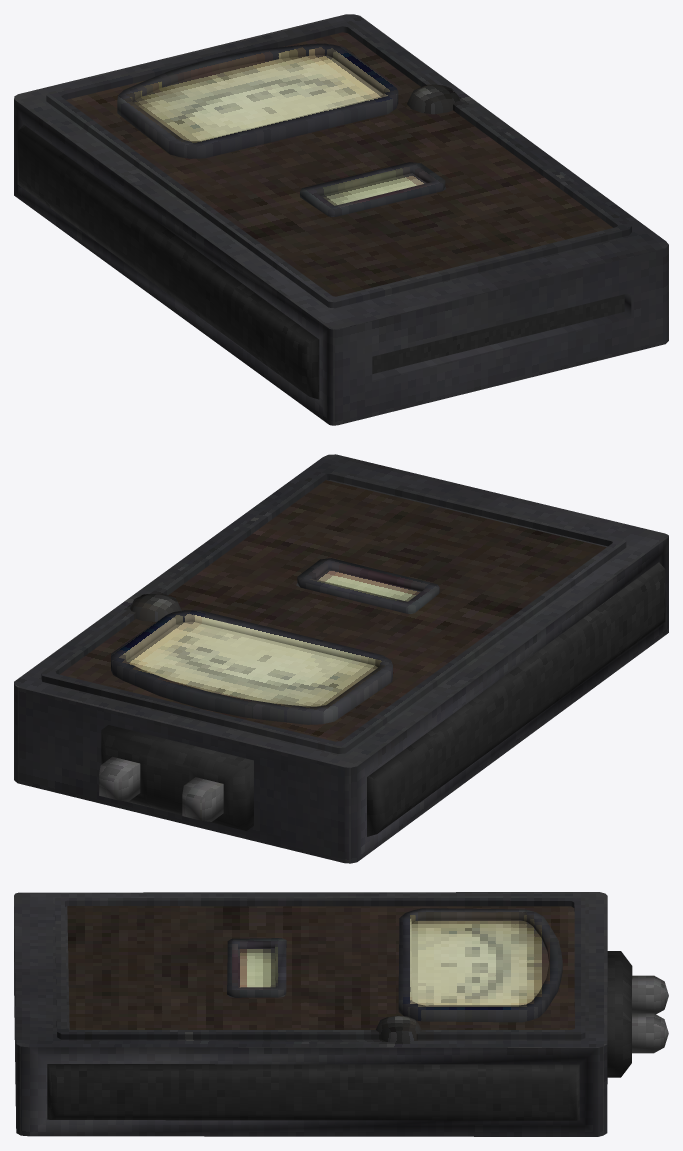
The model's file is dosimeter_3.glb.
3 views of the same model, one above another, from view 1: azimuth 30°, elevation 25°; view 2: azimuth 150°, elevation 25°; view 3: azimuth 270°, elevation 25° (orthographic). The views are drawn at different scales.
Parts seen in each view (by area): view 1: dosimeter_3; view 2: dosimeter_3; view 3: dosimeter_3.
Part boxes in pixels (x1,y1,x2,y2): dosimeter_3: [14, 14, 668, 425]; dosimeter_3: [14, 454, 668, 863]; dosimeter_3: [14, 892, 668, 1136].
Bounding box in the file's own units: 0.1602 × 0.045 × 0.2667.
4 materials, 4 textured.
